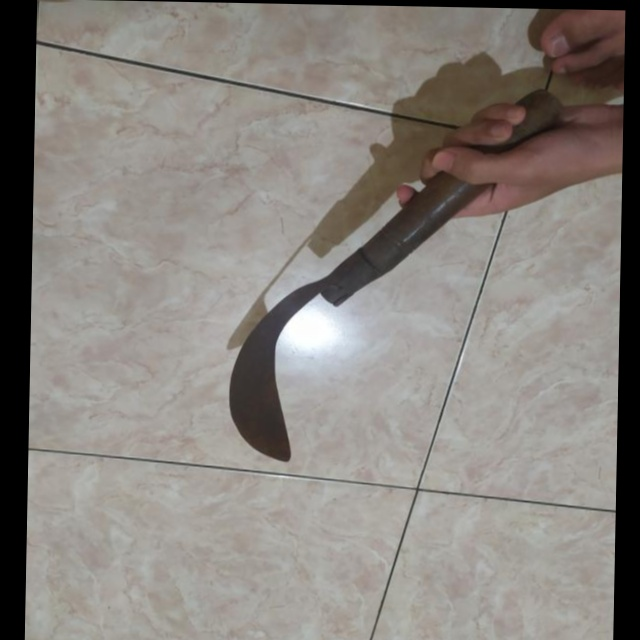Sharp-Object: (224, 80, 568, 480)
